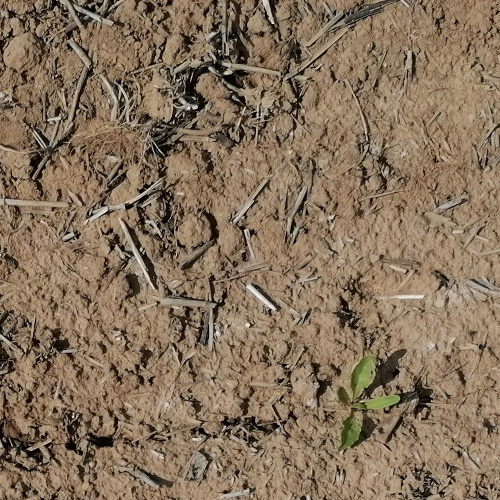beet: (335, 356, 401, 456)
